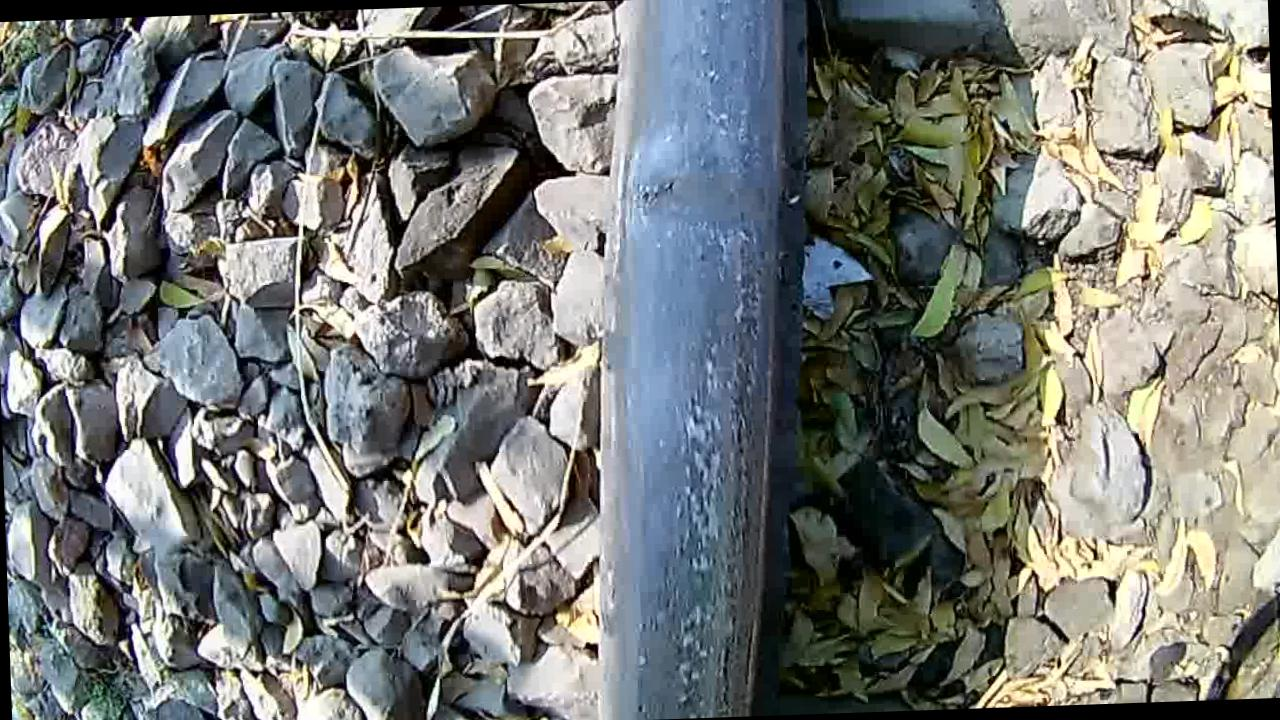bolt_missing: (624, 84, 794, 380)
